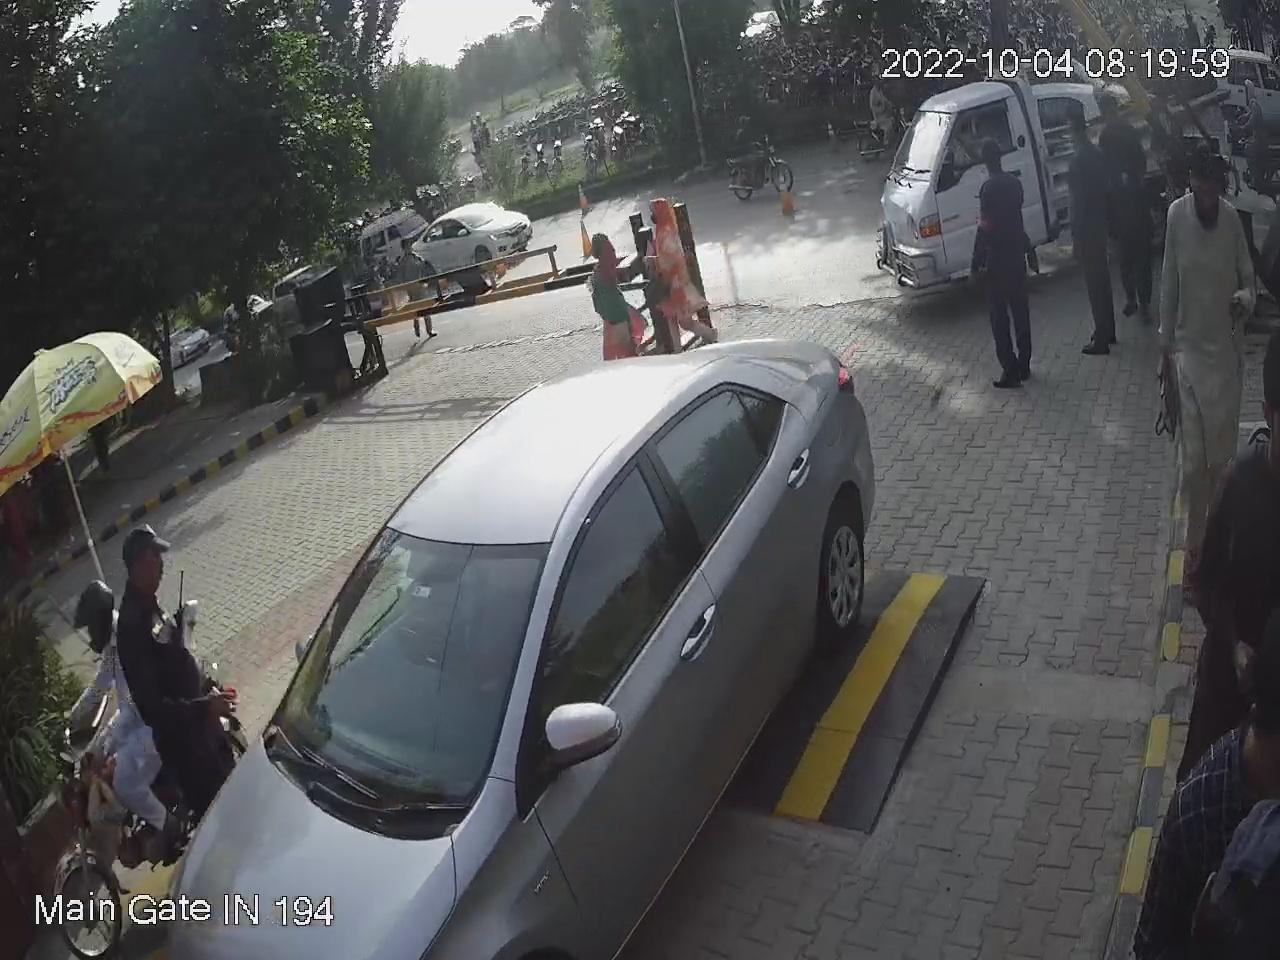windshield: (258, 520, 560, 835)
